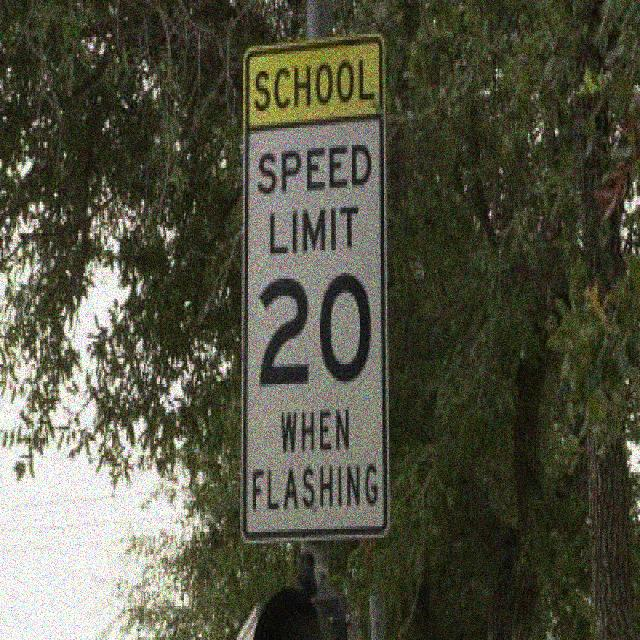speedLimit20: (243, 126, 389, 400)
